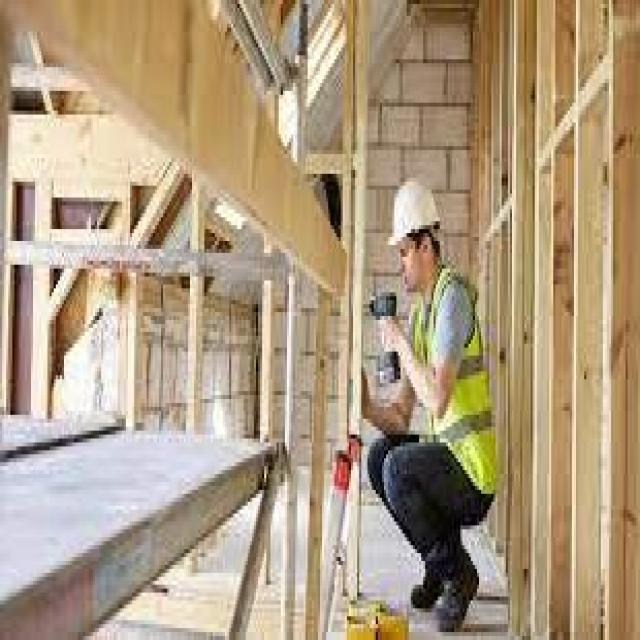Reflective-Jacket: (403, 268, 510, 506)
Safety-Helmet: (382, 162, 448, 265)
